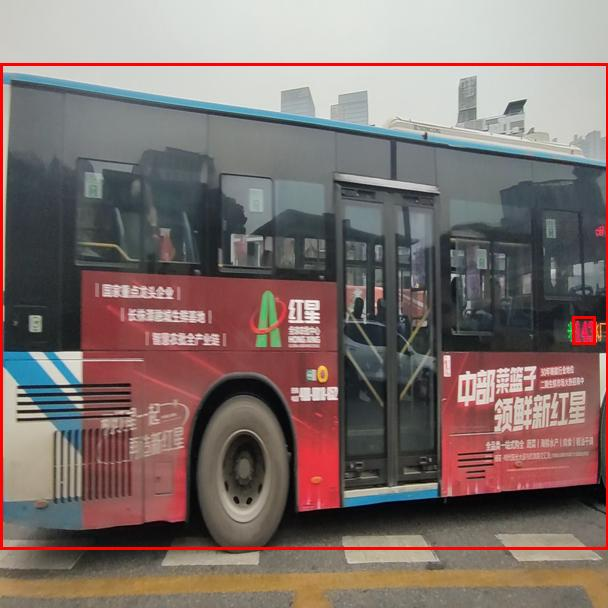bus: (0, 63, 608, 549)
screen: (572, 316, 595, 344)
